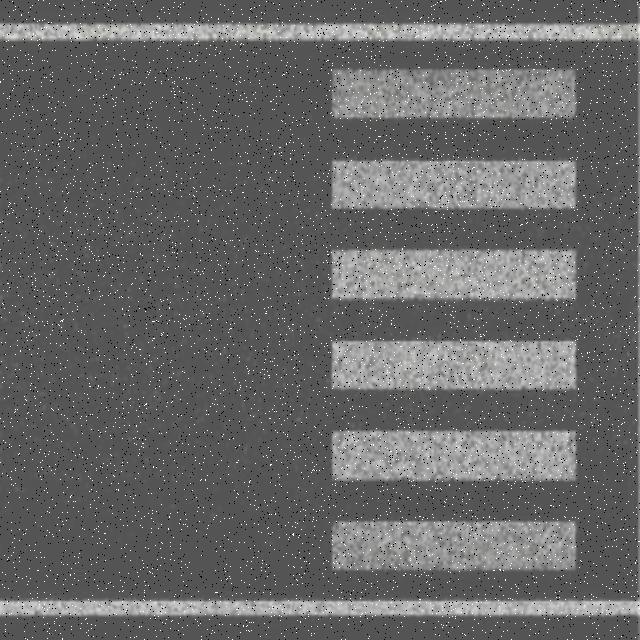crosswalk: (329, 62, 583, 577)
